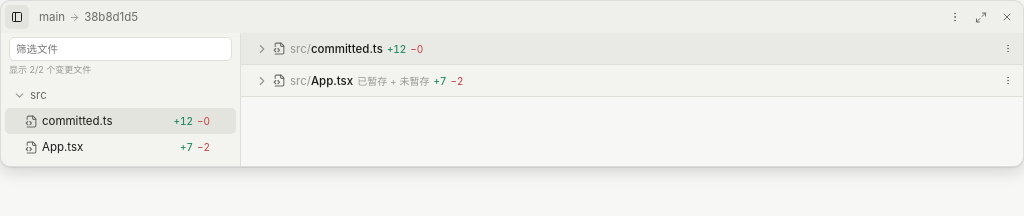
Test case: GitReviewPanel › names a worktree by its real name and opens on everything its branch did since it forked
Expected: the text "committed.ts" below "显示 2/2 个变更文件" is shown, [42,114,113,128]
Click the button with aria-label "审阅范围" at (89, 17), box [33,5,144,29]
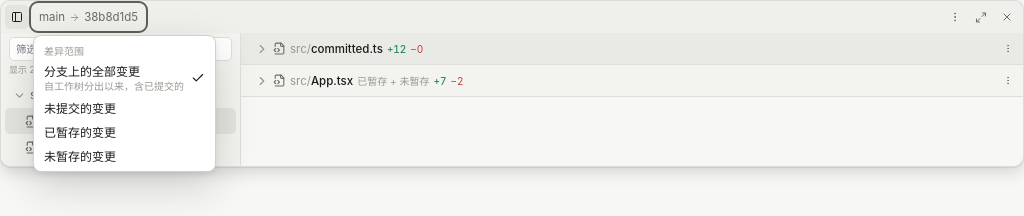
Click the menu item "未提交的变更" at (124, 108), box [37,96,212,120]
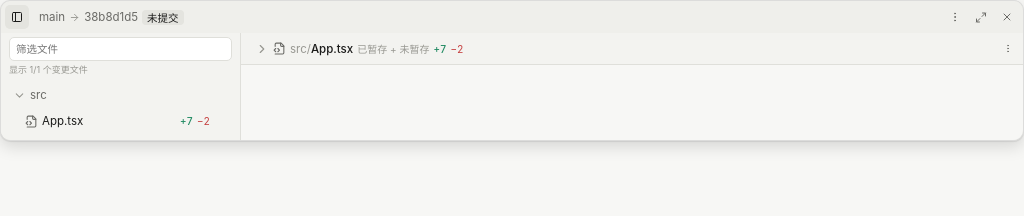
Expected: the button with aria-label "审阅范围" shows "未提交", [33,5,190,29]
